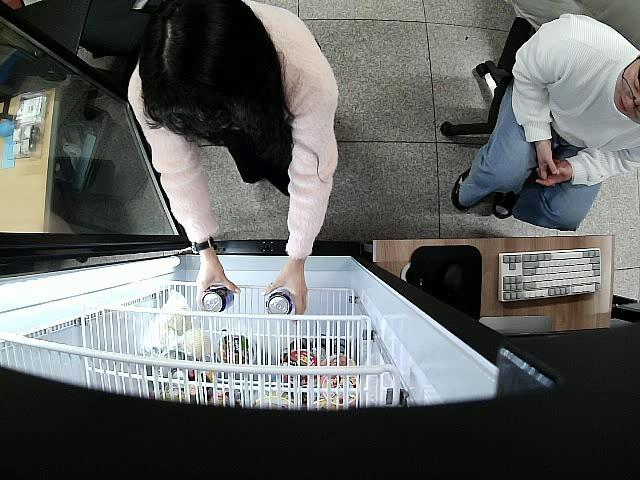14_welchsGrape: (200, 288, 234, 312), (268, 288, 292, 314)
